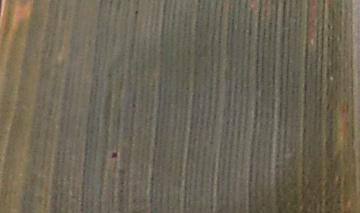tarspot: (109, 150, 120, 159), (130, 102, 137, 111), (325, 102, 331, 112), (326, 21, 331, 31), (133, 9, 139, 16), (184, 86, 189, 92)
